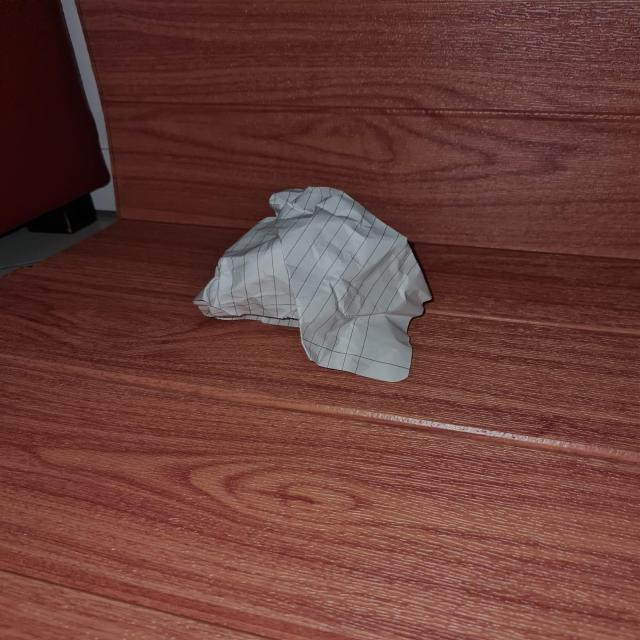trash: (192, 180, 430, 376)
